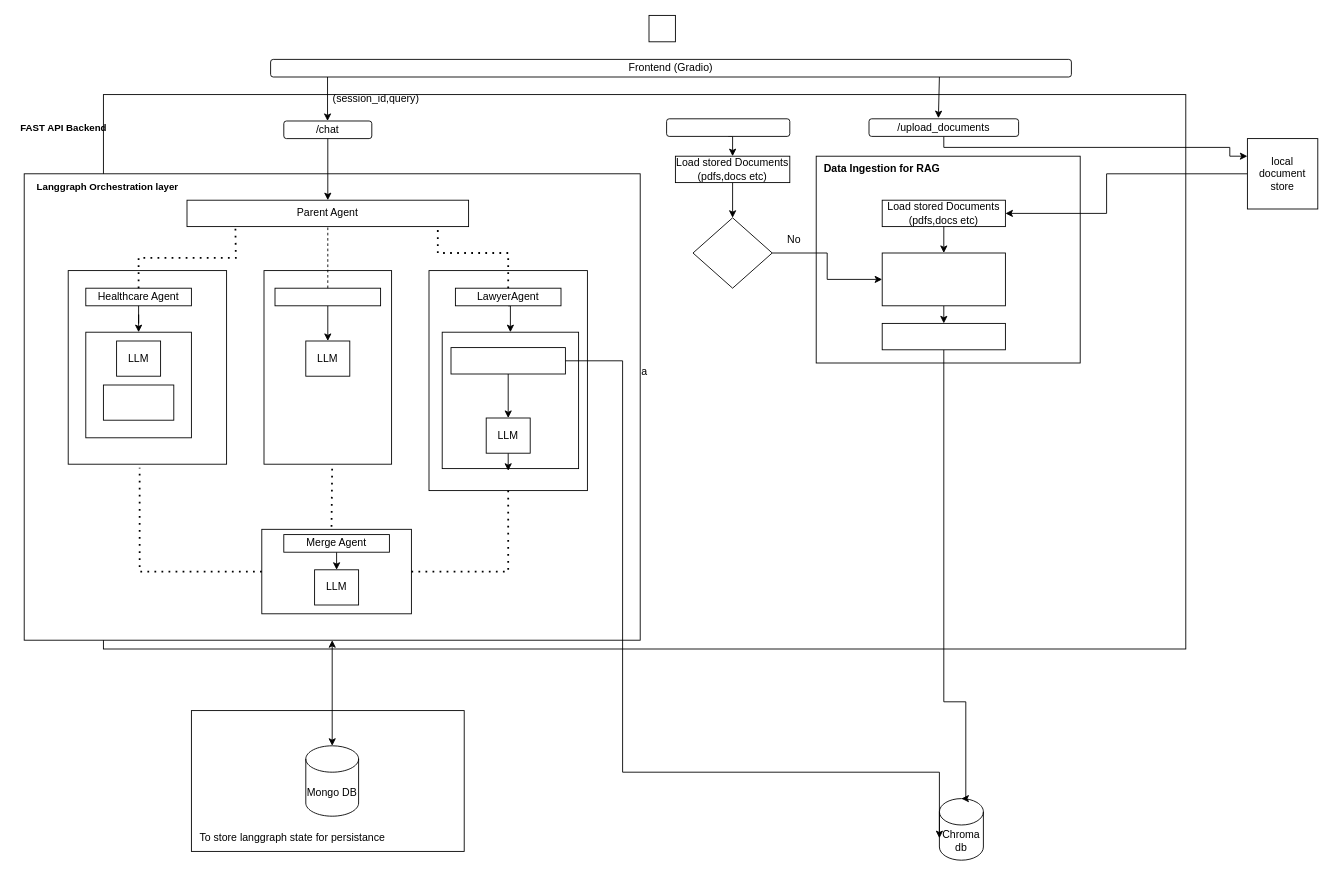
Some shapes in this 1333 by 876 pixel diagram are drawn without their labels. The shapes that lost their labels are listed below. From the top down, each one's centre as x and y in pixels, then its label:
At (661,28): "user".
At (728,127): "App Initialisation".
At (732,252): "check doc in vectorstore".
At (327,296): "SE Agent".
At (943,279): "Recursive Text Splitter Chunk size = 500 chunk Overlap = 50".
At (943,336): "Embedding".
At (507,360): "VectorStore Retrieval k=10".
At (138,402): "DuckDuckGo".
